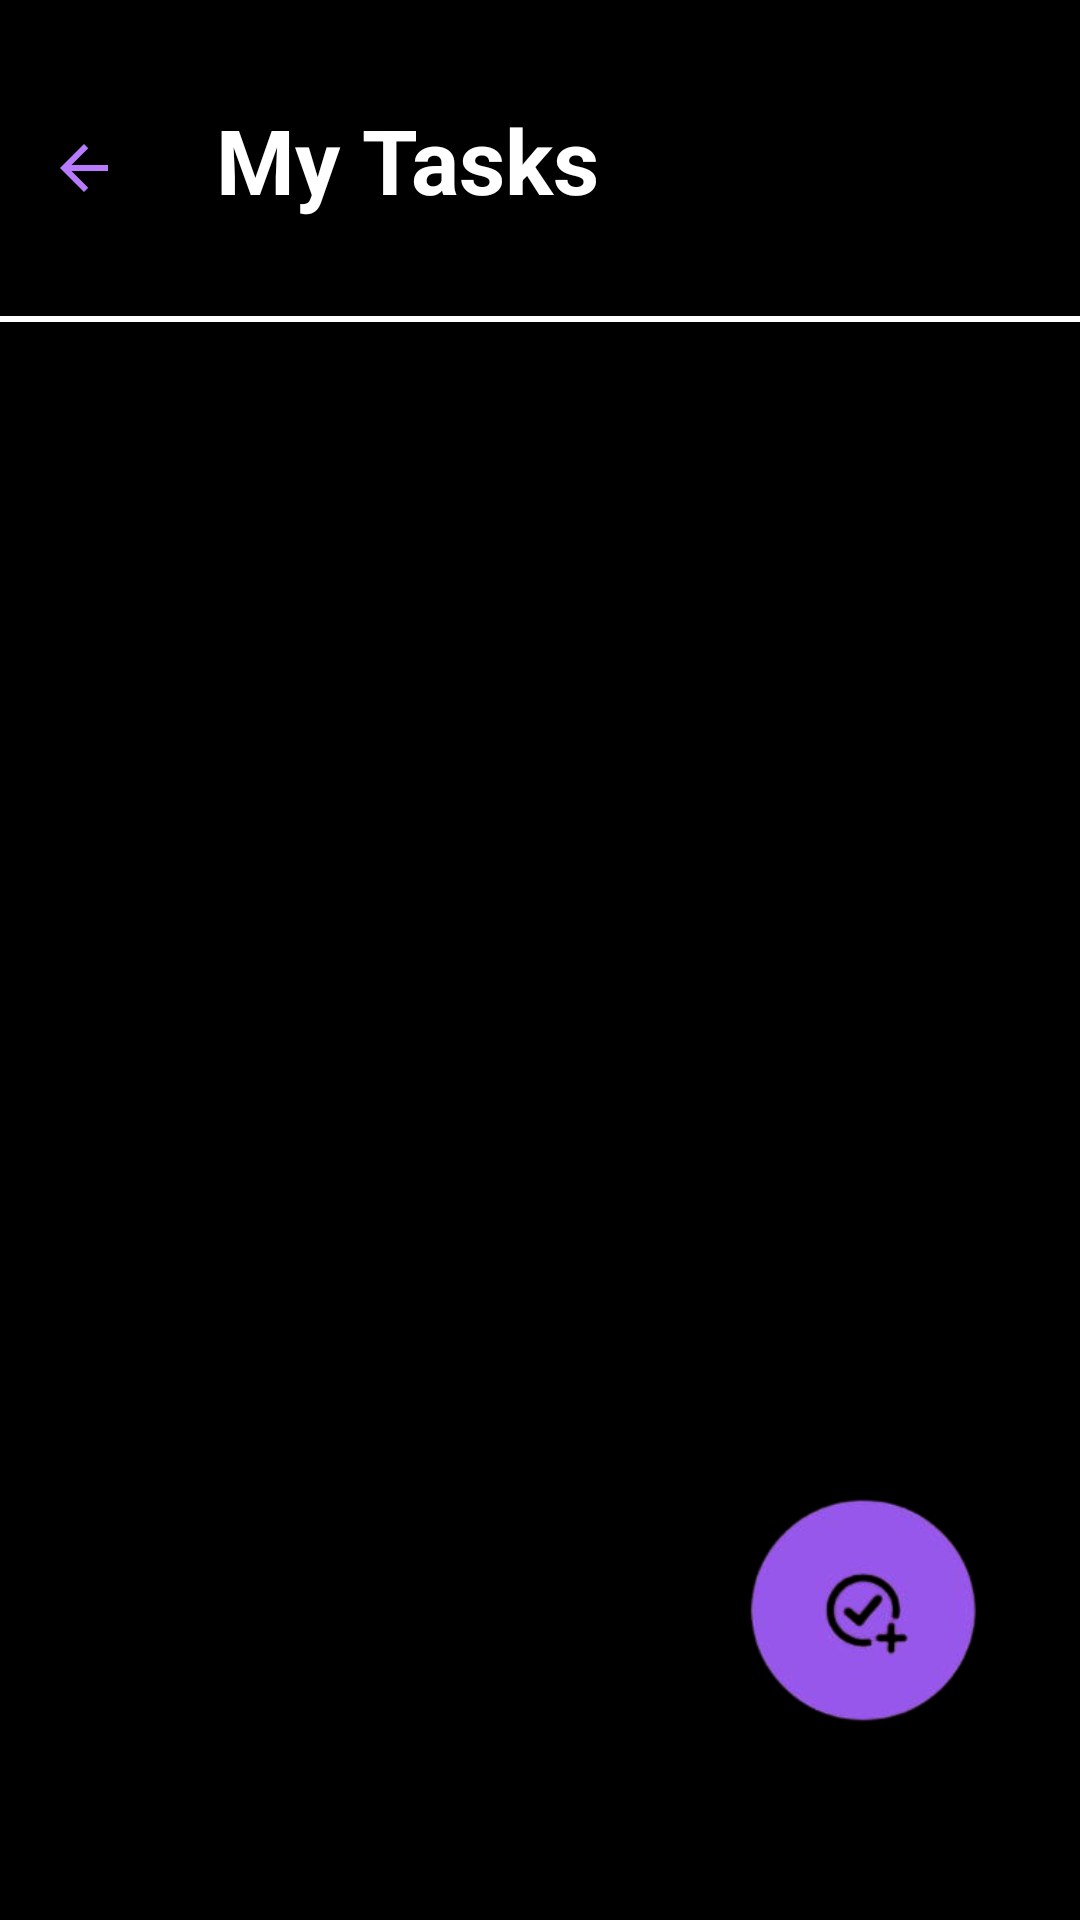

Icons on this 1080 × 1920 Android screen, each with its box as (x1, y1, x2, y2):
arrow: (60, 144, 108, 192)
task: (750, 1500, 976, 1721)
